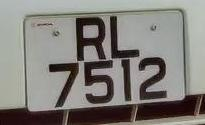1: (116, 56, 138, 106)
2: (133, 51, 173, 105)
7: (39, 57, 89, 112)
L: (107, 11, 144, 59)
R: (73, 13, 113, 64)
